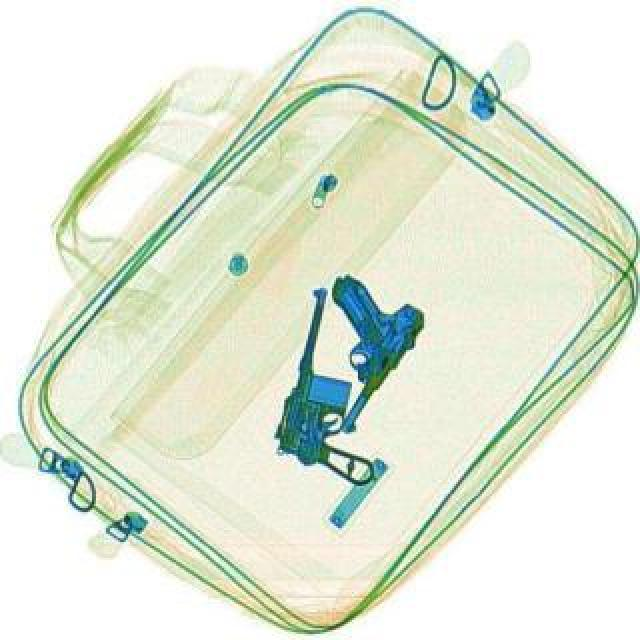gun: (266, 282, 418, 486), (262, 266, 430, 434)
